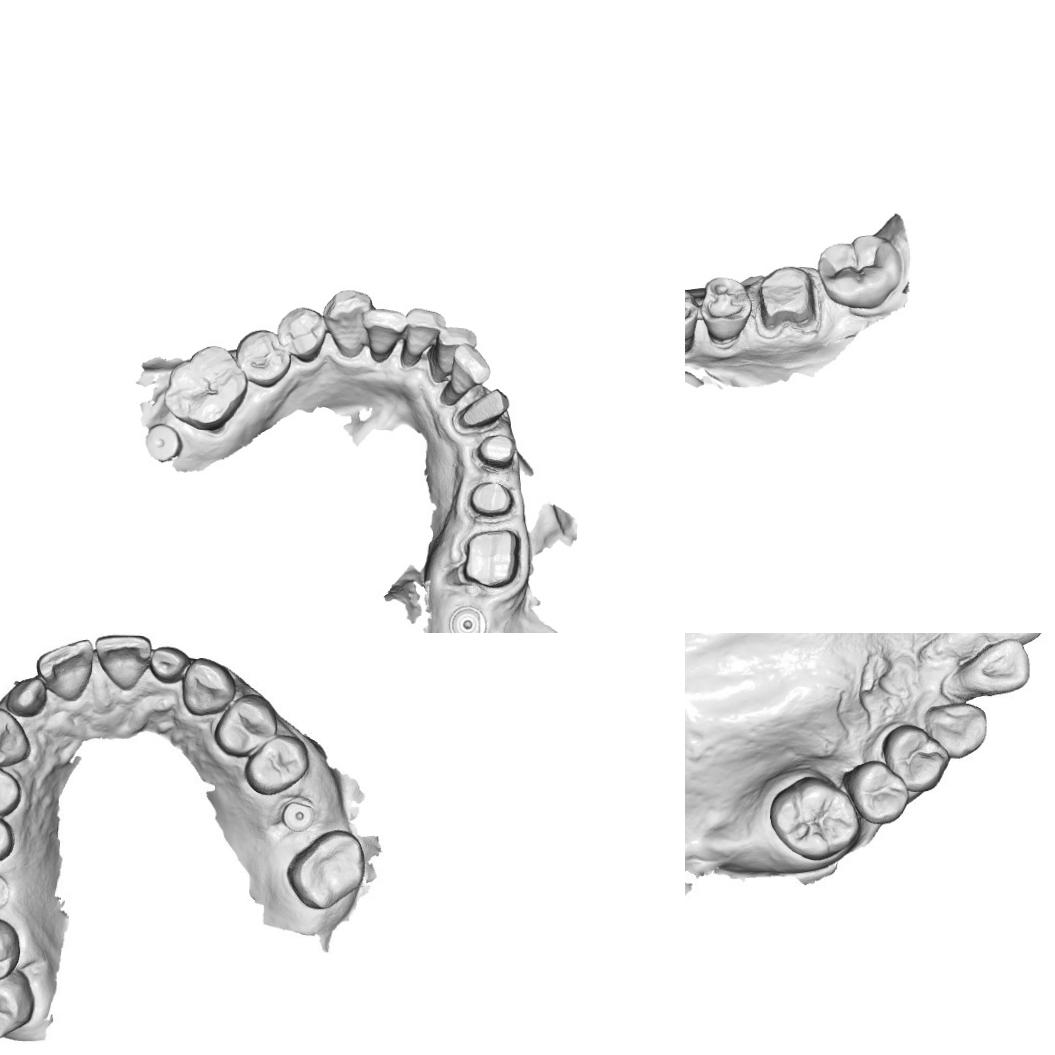canine: (321, 288, 374, 359), (924, 701, 991, 756), (181, 656, 238, 715), (0, 707, 30, 764)
crown: (753, 260, 823, 336), (460, 527, 521, 589), (453, 386, 511, 434), (466, 480, 514, 520), (471, 432, 518, 472)
implant: (143, 422, 184, 464), (280, 795, 318, 836), (446, 603, 489, 633)
incisor: (961, 640, 1036, 693), (90, 633, 153, 690), (37, 640, 96, 699), (438, 342, 492, 406), (398, 308, 446, 370), (429, 325, 477, 382), (359, 306, 406, 364), (3, 671, 48, 719), (151, 638, 190, 688)
molar: (162, 344, 249, 432), (816, 229, 904, 312), (282, 830, 370, 911), (774, 782, 850, 857), (0, 977, 33, 1044)
premolar: (699, 274, 753, 348), (213, 694, 275, 756), (887, 722, 944, 785), (234, 327, 292, 388), (856, 764, 910, 826), (247, 737, 306, 788), (276, 306, 327, 364), (0, 759, 24, 816), (685, 285, 699, 356)
